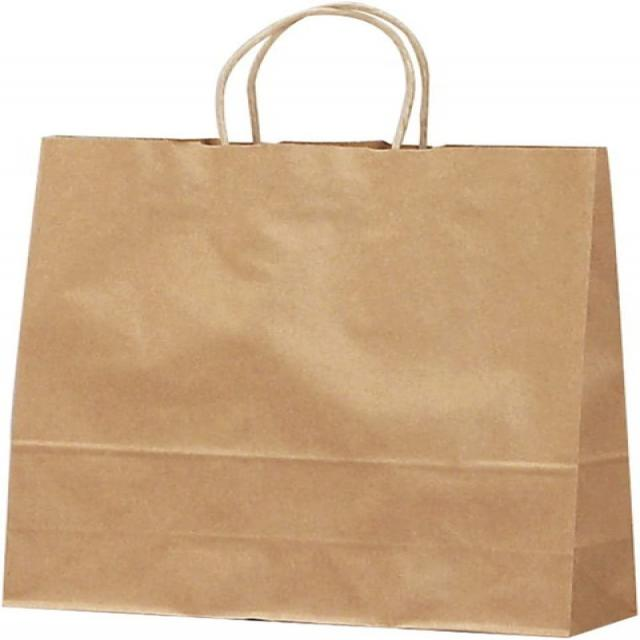paper bag: (2, 1, 640, 638)
